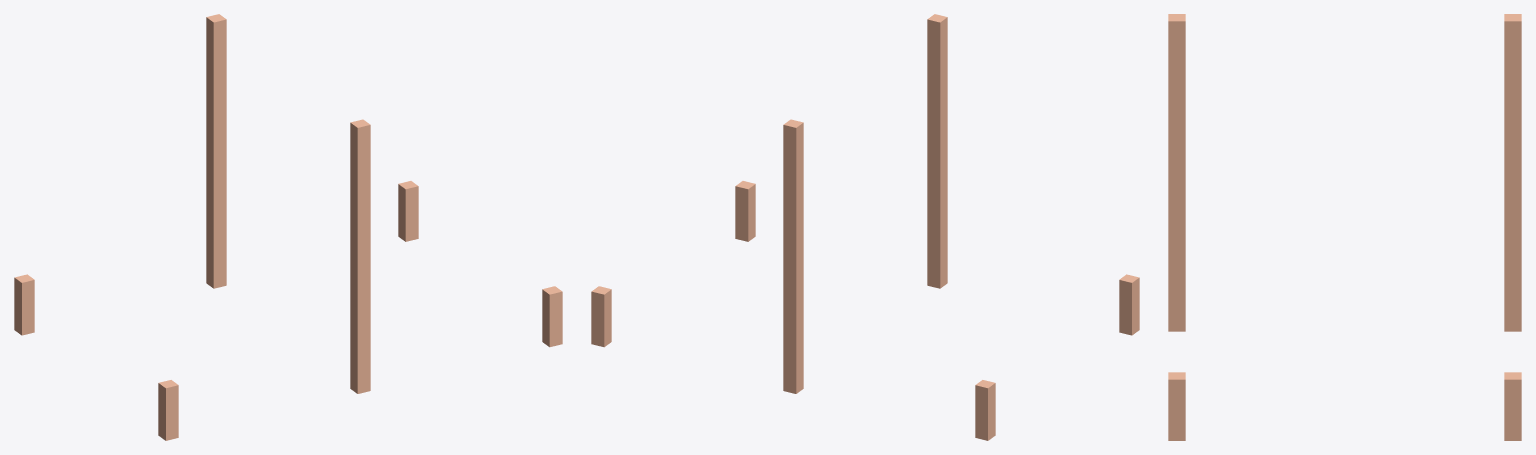
File: kenneyTentFrame.glb
The picture shows the model from 3 angles, left to right: view 1: azimuth 30°, elevation 25°; view 2: azimuth 150°, elevation 25°; view 3: azimuth 270°, elevation 25°; orthographic projection. The views are drawn at different scales.
Parts seen in each view (by area): view 1: tentFrame; view 2: tentFrame; view 3: tentFrame.
Part boxes in pixels (box(x1,y1,x2,y2)): tentFrame: box(14, 14, 562, 440); tentFrame: box(591, 14, 1139, 440); tentFrame: box(1168, 14, 1521, 440).
Size of the model in its own units: 0.8749 by 0.5611 by 0.5784.
